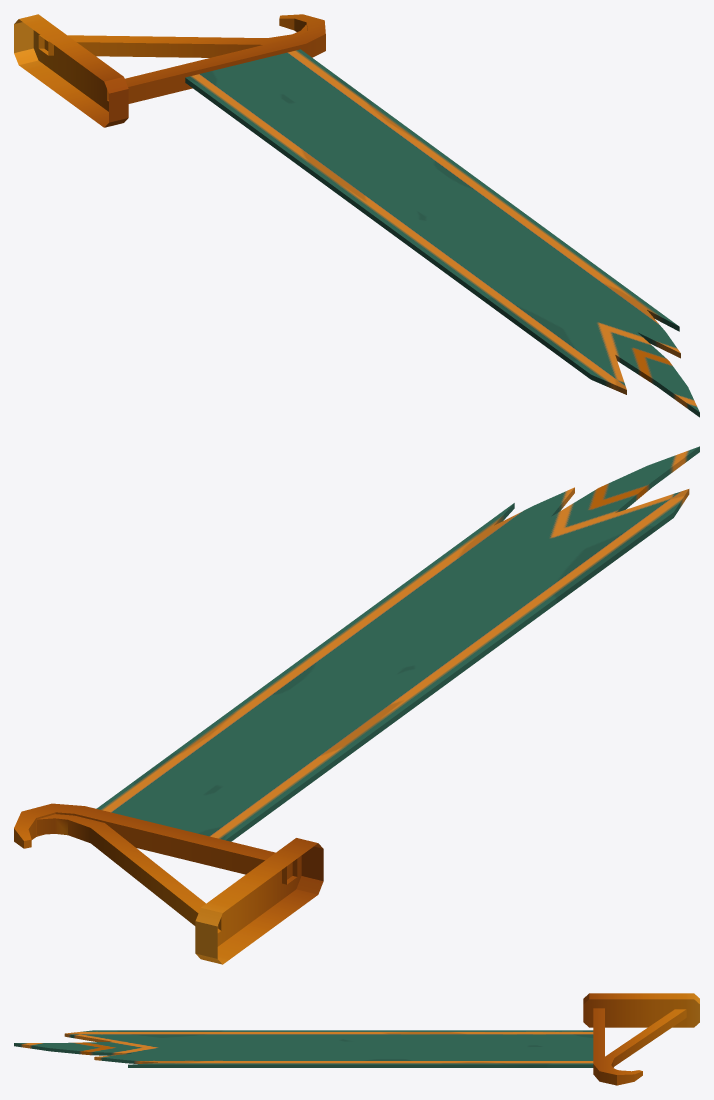
The model's file is Wall Flag 03.FBX.
3 views of the same model, one above another, from view 1: azimuth 30°, elevation 25°; view 2: azimuth 150°, elevation 25°; view 3: azimuth 270°, elevation 25° (orthographic). The views are drawn at different scales.
Visible parts, largest first — view 1: Wall Flag 03; view 2: Wall Flag 03; view 3: Wall Flag 03.
Boxes of the visible parts, x1,y1,x2,y2 form: Wall Flag 03: (14, 14, 699, 417); Wall Flag 03: (14, 446, 699, 964); Wall Flag 03: (14, 993, 699, 1085).
Size of the model in its own units: 98.39 by 17.87 by 392.
